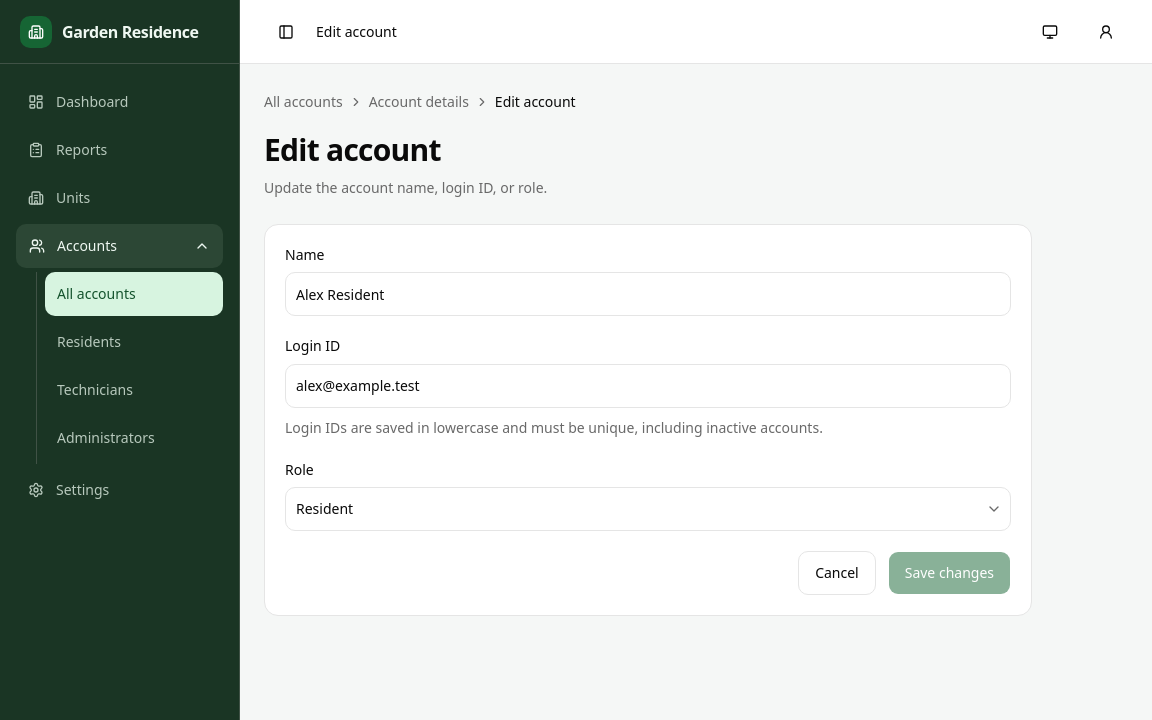
Test: retains an edit draft and maps a duplicate Login ID error to its field
The width and height of the screenshot is (1152, 720).
Replace the text in the field labelled "Login ID" with "duplicate" at (648, 386), box [285,364,1011,408]
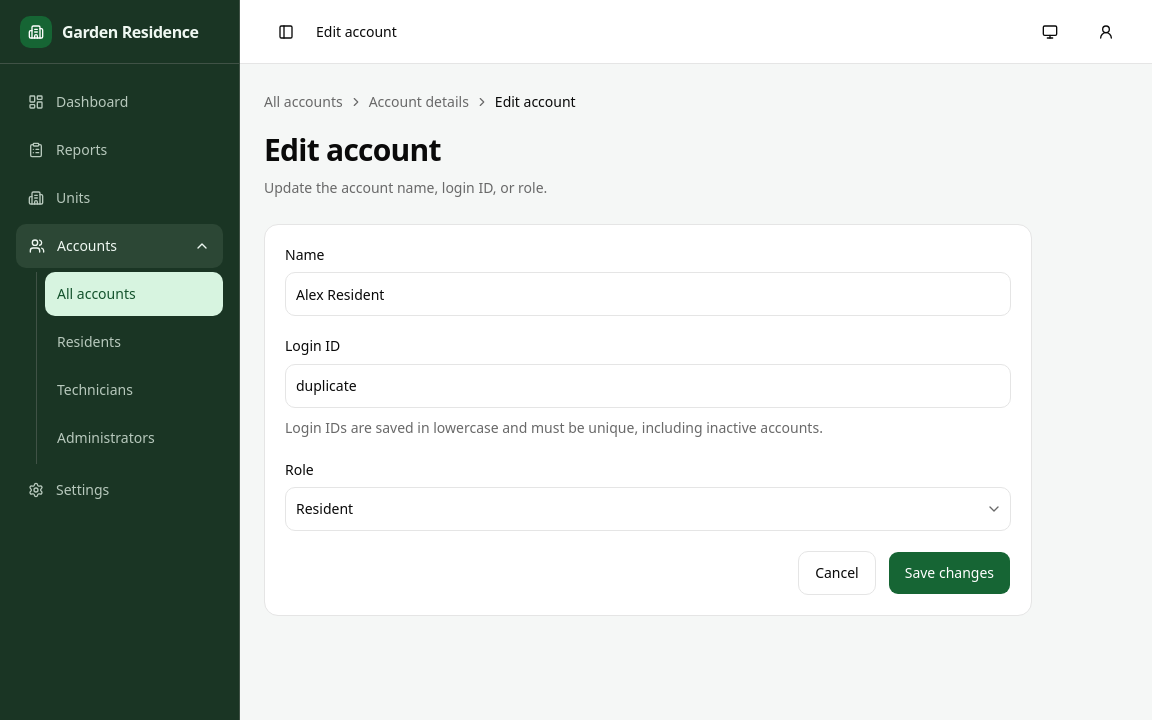
Click the button "Save changes" at (949, 573), box [888,551,1011,595]
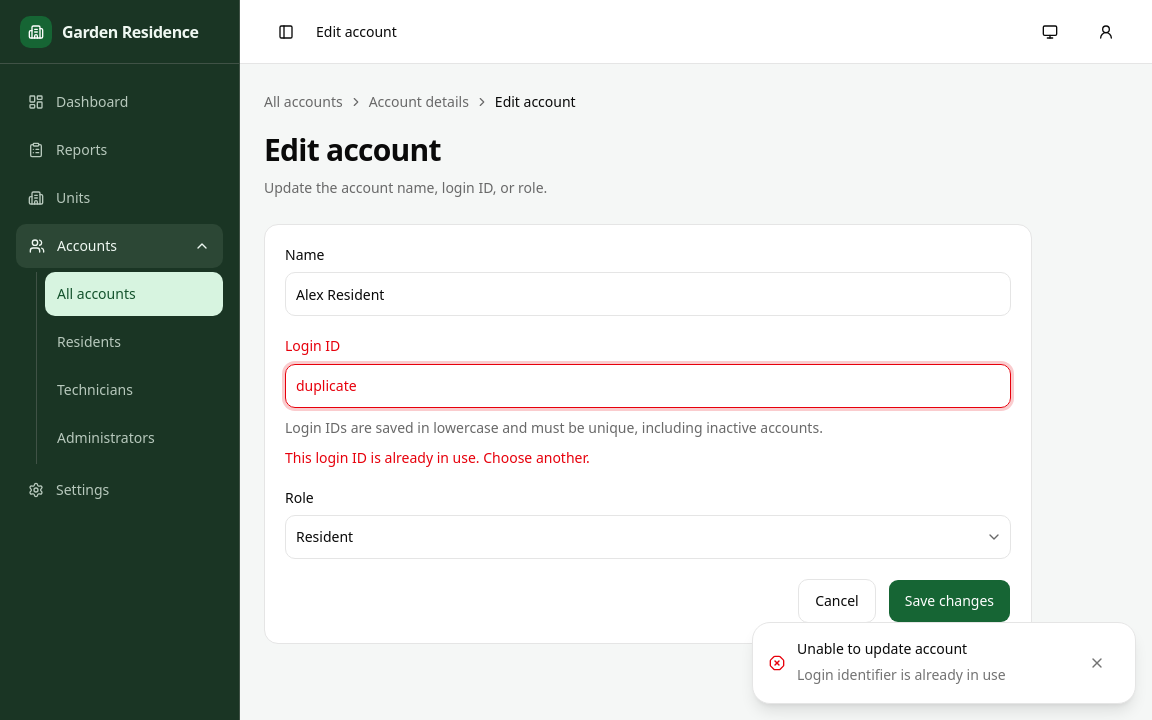
Result: the text "This login ID is already in use. Choose another." is shown at [285,448,590,466]
